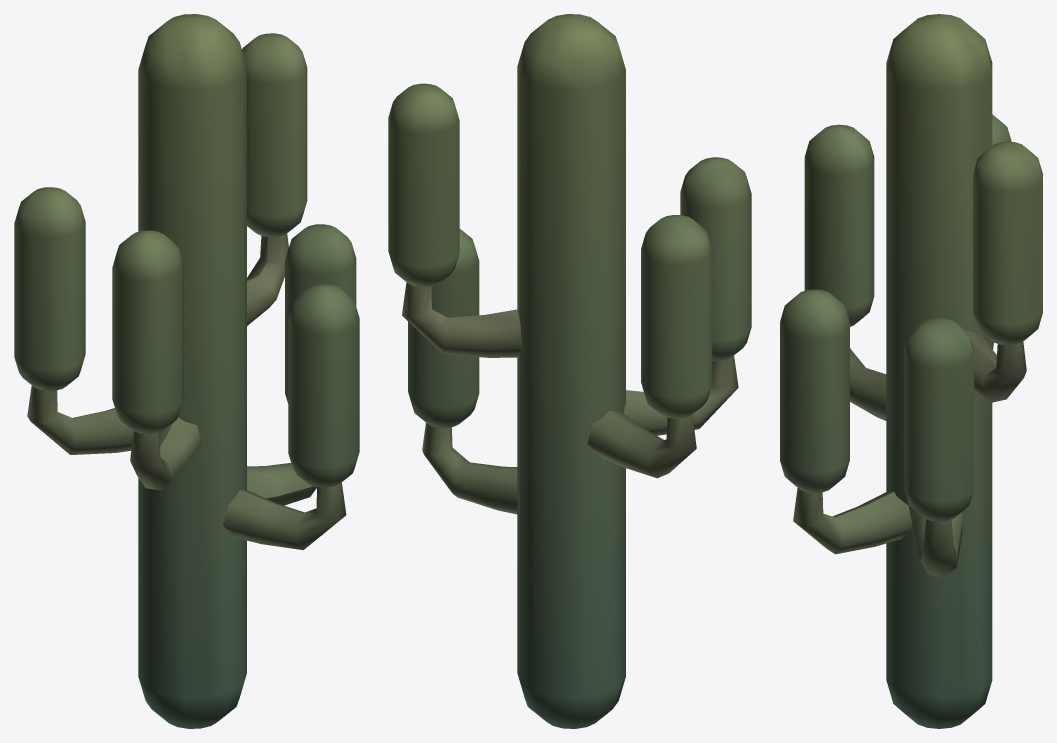
Rendered from climate-cactus.glb.
The picture shows the model from 3 angles, left to right: view 1: azimuth 30°, elevation 25°; view 2: azimuth 150°, elevation 25°; view 3: azimuth 270°, elevation 25°; orthographic projection.
Parts seen in each view (by area): view 1: cactus-0, cactus-1; view 2: cactus-0, cactus-1; view 3: cactus-0, cactus-1.
Boxes of the visible parts, left/top/right/bottom form: cactus-0: left=112, top=14, right=356, bottom=728; cactus-1: left=14, top=33, right=359, bottom=550; cactus-0: left=408, top=14, right=751, bottom=728; cactus-1: left=388, top=83, right=712, bottom=478; cactus-0: left=804, top=14, right=992, bottom=728; cactus-1: left=780, top=114, right=1042, bottom=554.
Size of the model in its own units: 0.4657 by 1 by 0.3378.
